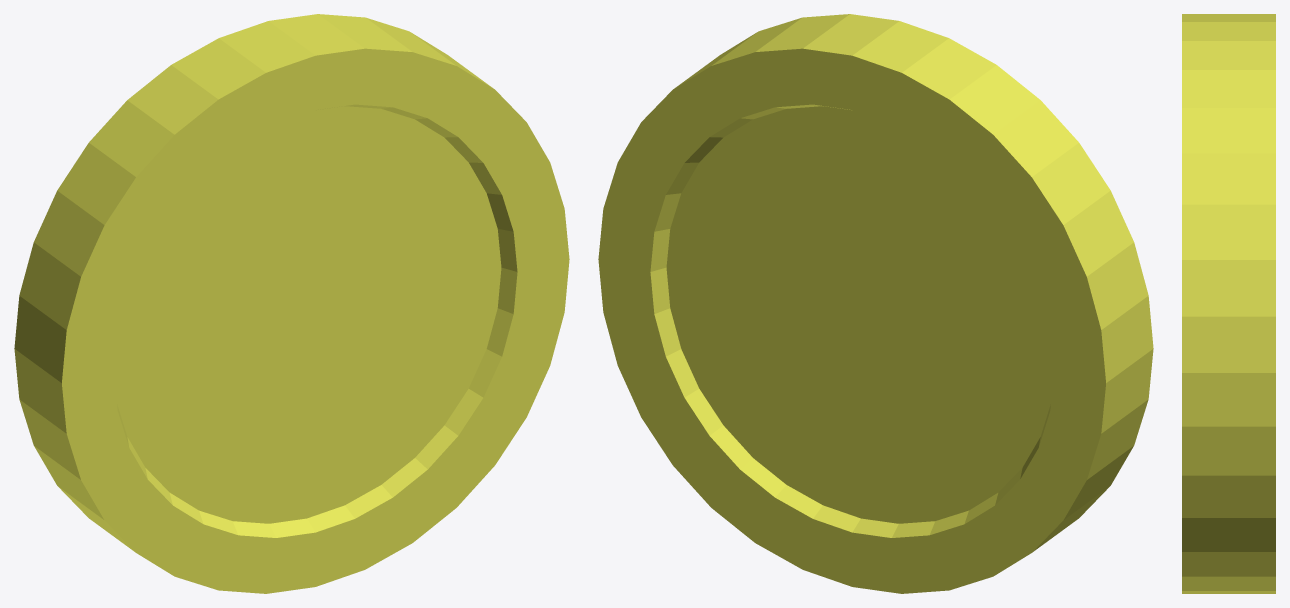
Rendered from Coin.fbx.
3 renders of one model, left to right at view 1: azimuth 30°, elevation 25°; view 2: azimuth 150°, elevation 25°; view 3: azimuth 270°, elevation 25°, orthographic.
Visible parts, largest first — view 1: Cylinder; view 2: Cylinder; view 3: Cylinder.
Part boxes in pixels (x1,y1,x2,y2): Cylinder: (14,14,569,593); Cylinder: (598,14,1153,593); Cylinder: (1182,14,1275,593).
Bounding box in the file's own units: 84 × 84 × 13.58.
